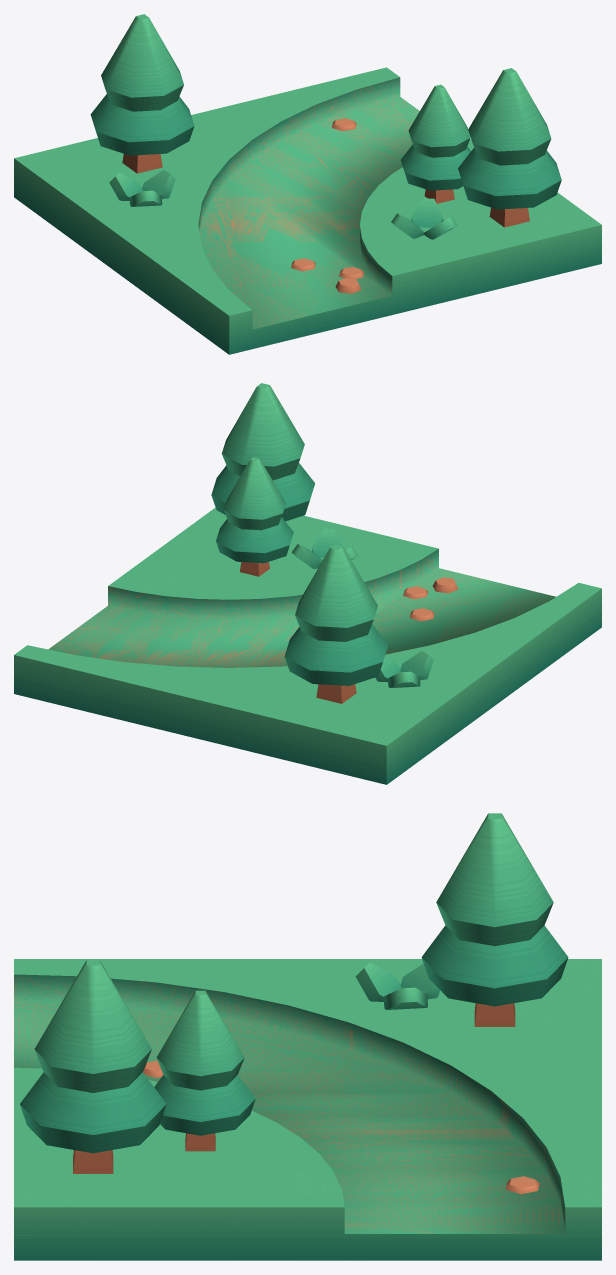
Rendered from tile-corner-large.glb.
3 renders of one model, top to bottom at view 1: azimuth 30°, elevation 25°; view 2: azimuth 150°, elevation 25°; view 3: azimuth 270°, elevation 25°, orthographic. The views are drawn at different scales.
Visible parts, largest first — view 1: tile-corner-large; view 2: tile-corner-large; view 3: tile-corner-large.
Boxes of the visible parts, x1,y1,x2,y2 form: tile-corner-large: [14, 14, 601, 354]; tile-corner-large: [14, 383, 601, 784]; tile-corner-large: [14, 813, 601, 1260].
Size of the model in its own units: 6 by 2.88 by 6.
Materials: 1 (1 with a texture image).
